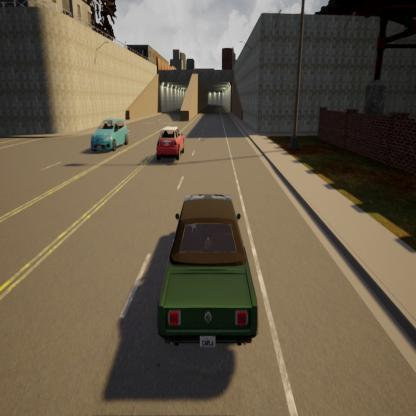Cars: (144, 187, 265, 362), (86, 115, 132, 157), (152, 122, 186, 166)
